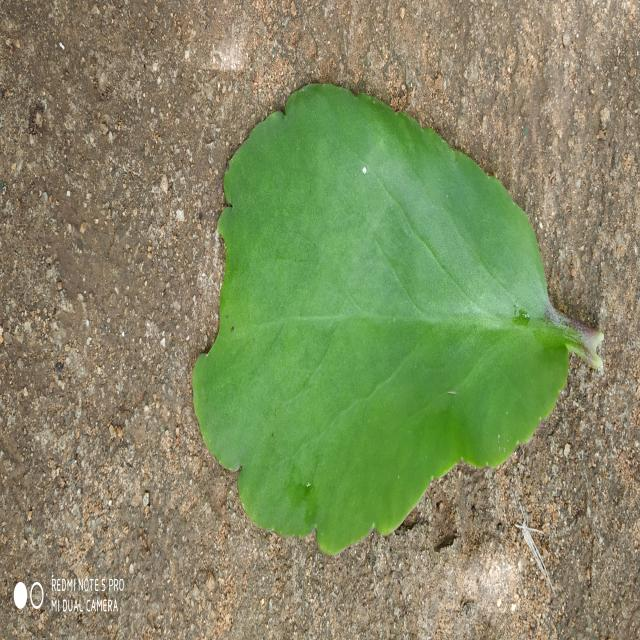spinach: (192, 85, 586, 552)
